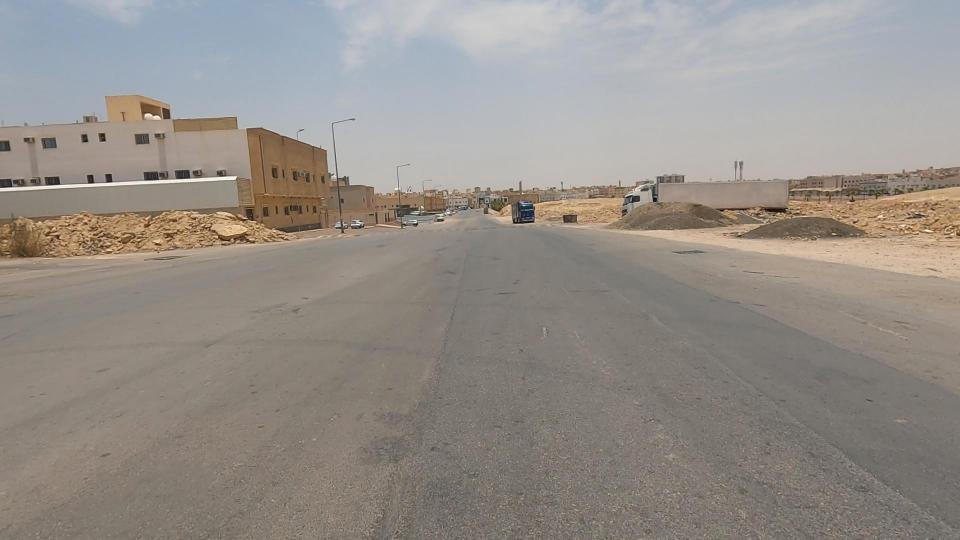SAND_ON_ROAD: (602, 170, 699, 271), (31, 202, 128, 280), (130, 201, 207, 278)
